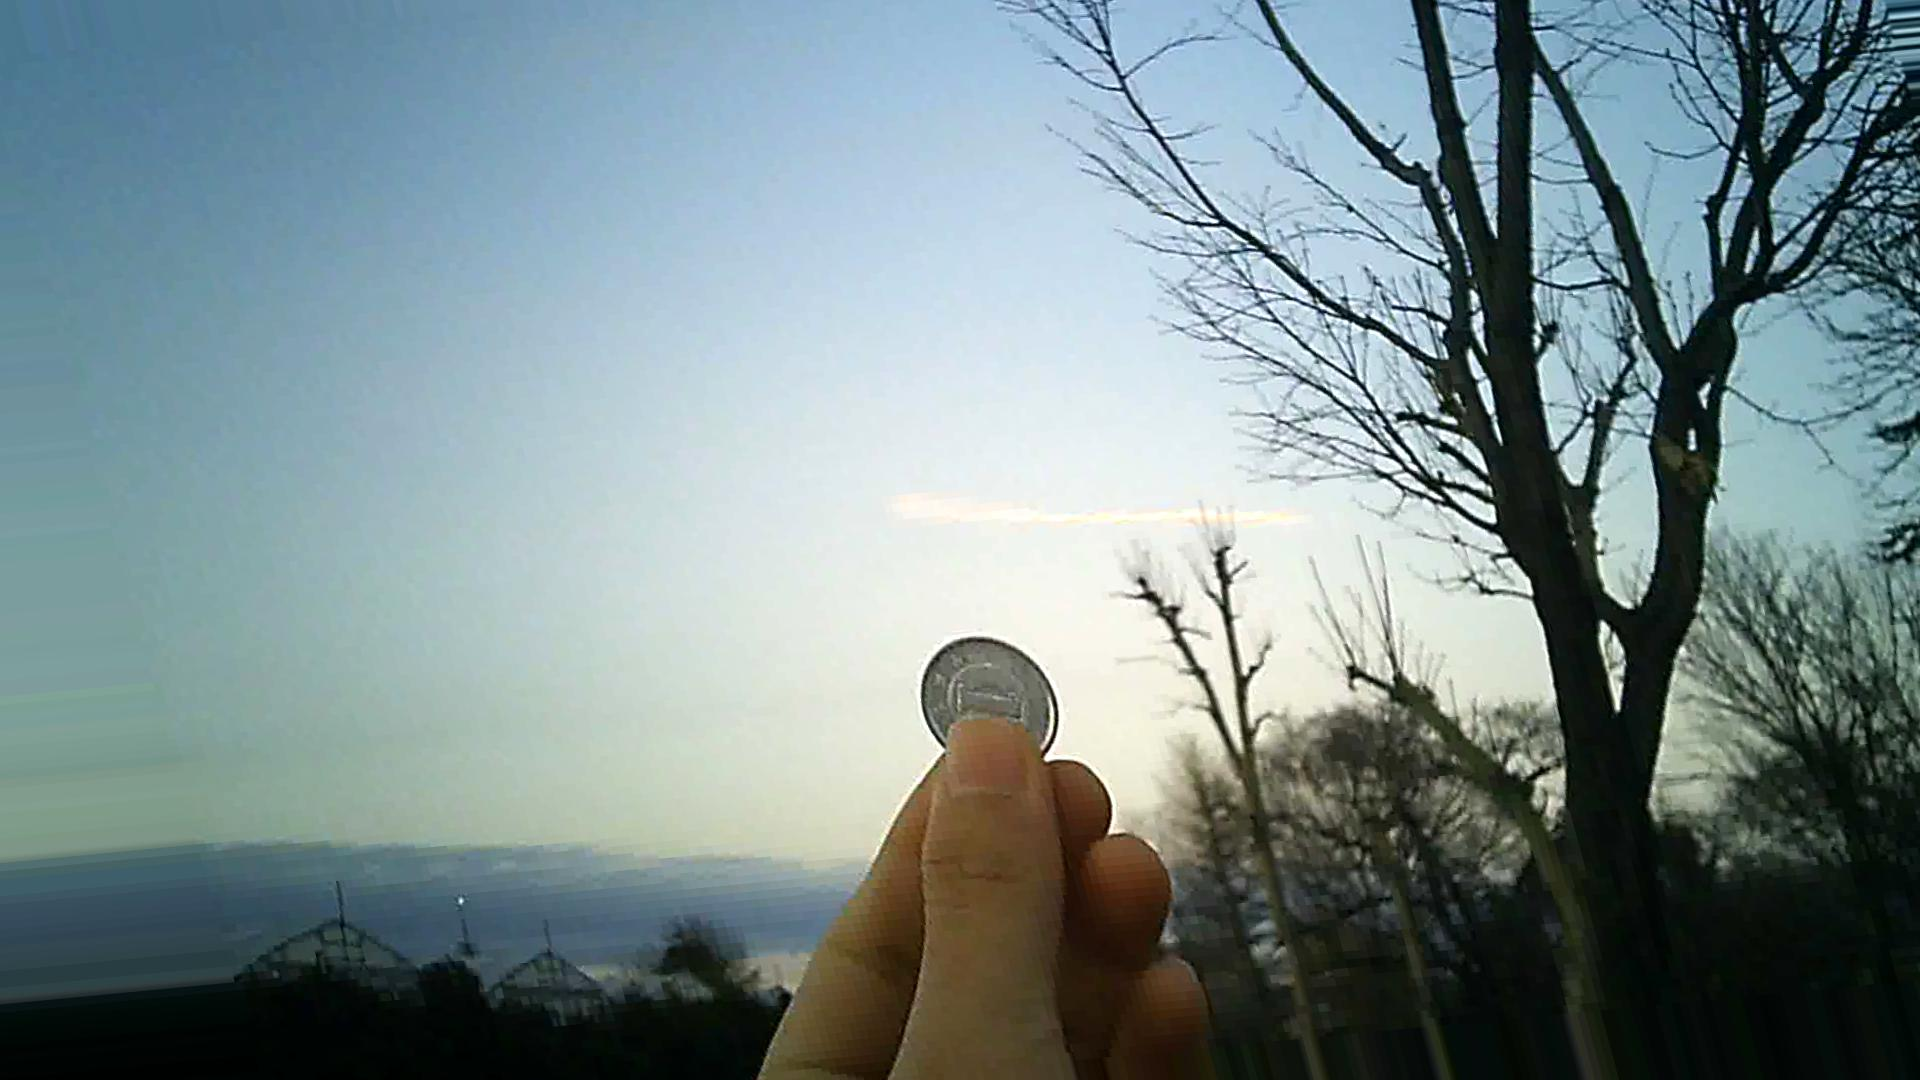1 Yen: (920, 632, 1062, 775)
